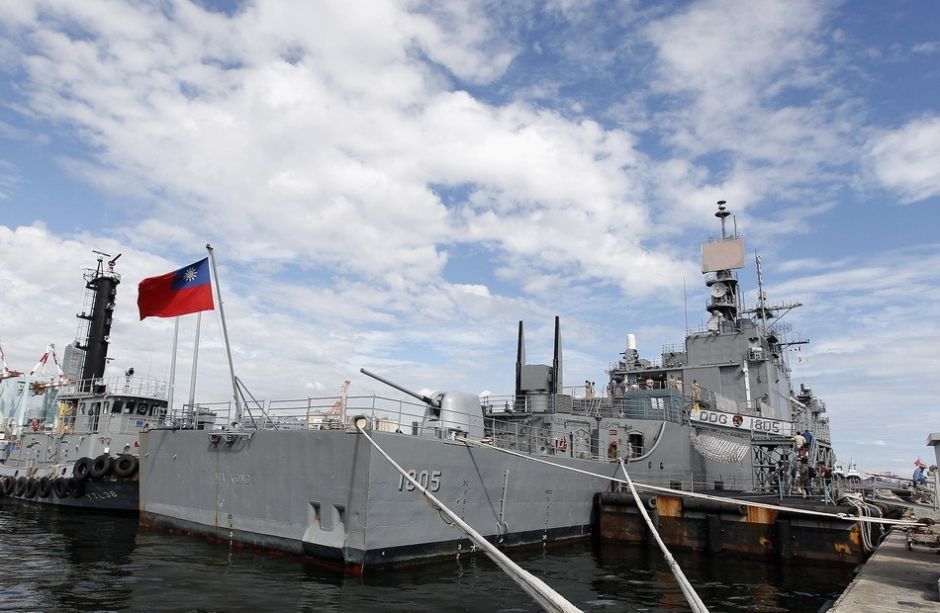warship: (80, 204, 856, 558)
